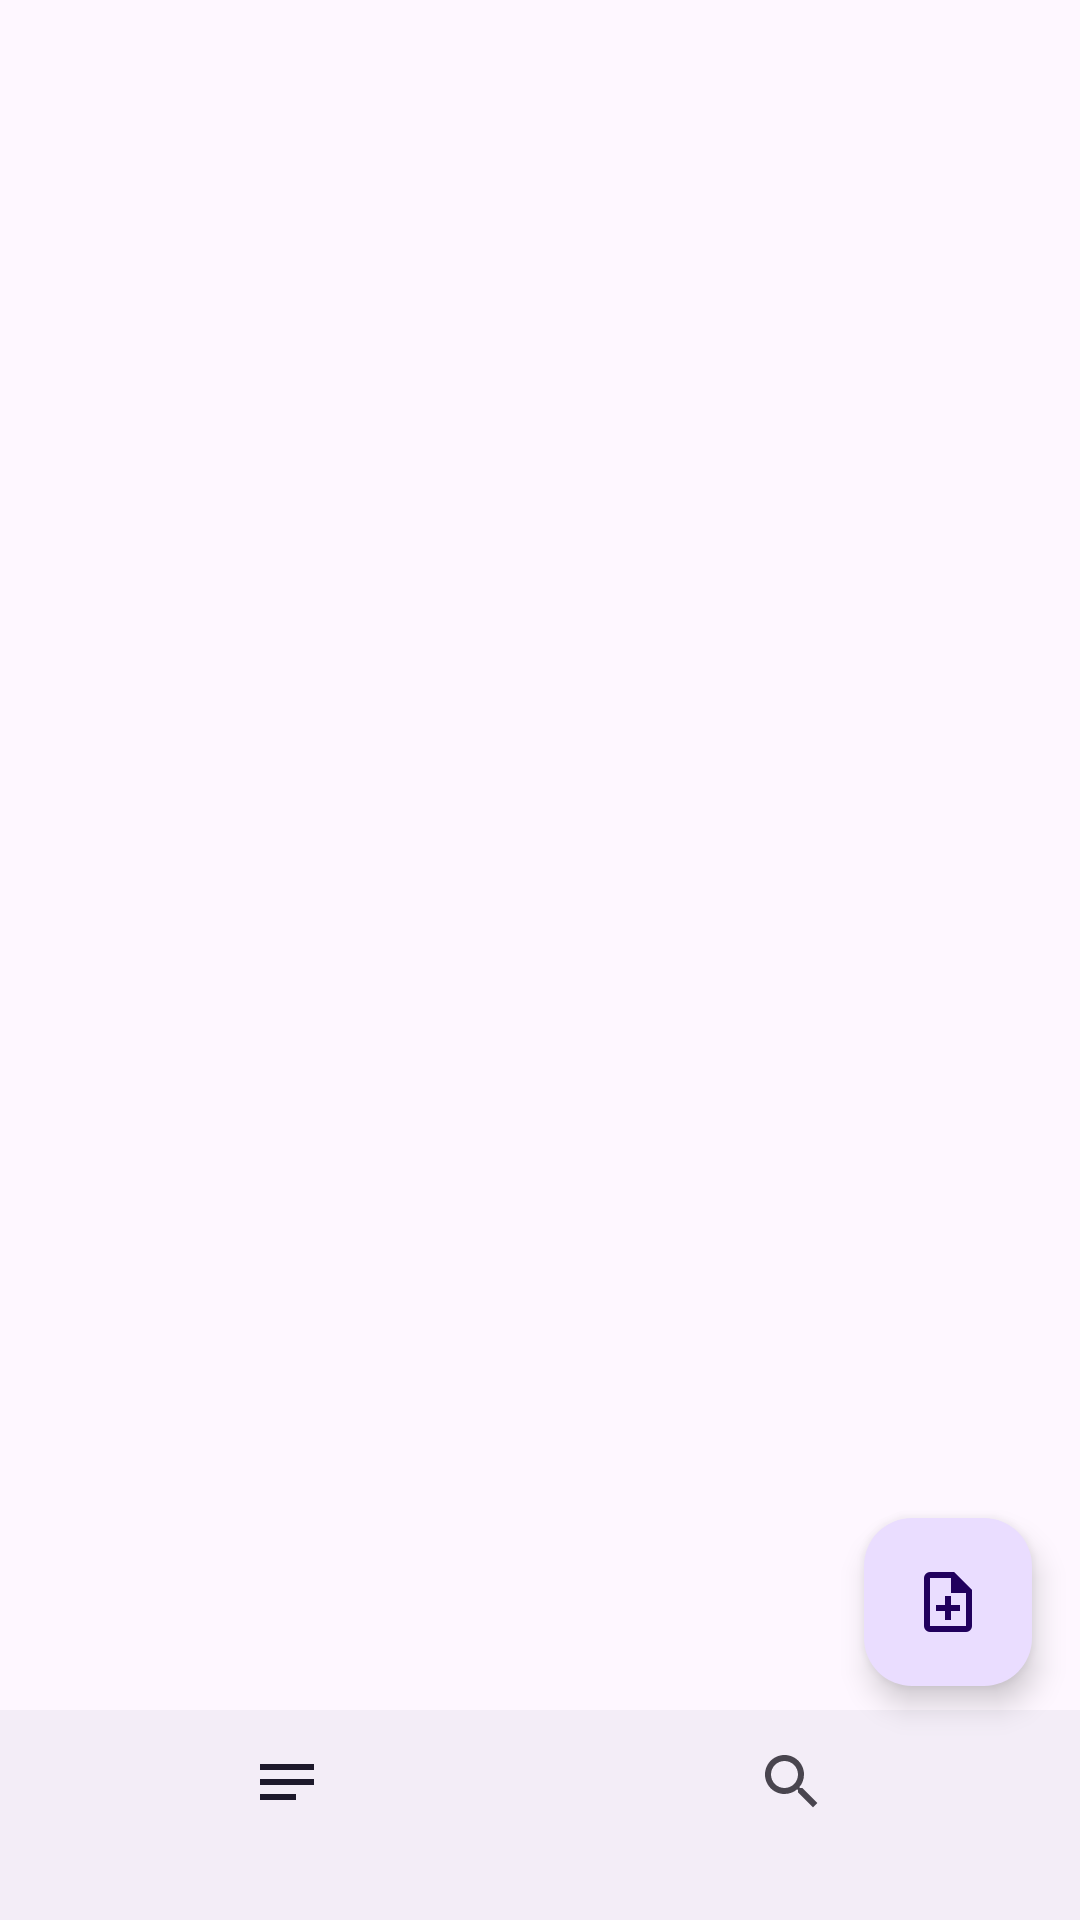

Where to tap for icons on this 1080x1920 app screen, as (x=x, y=y):
note add: (x=948, y=1602)
